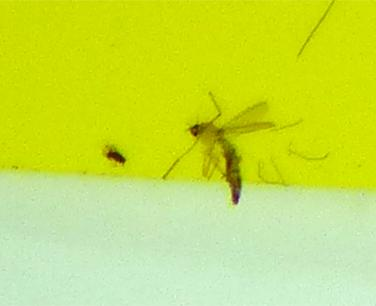Brachycera: (100, 141, 129, 168)
Nematocera: (185, 100, 276, 206)
